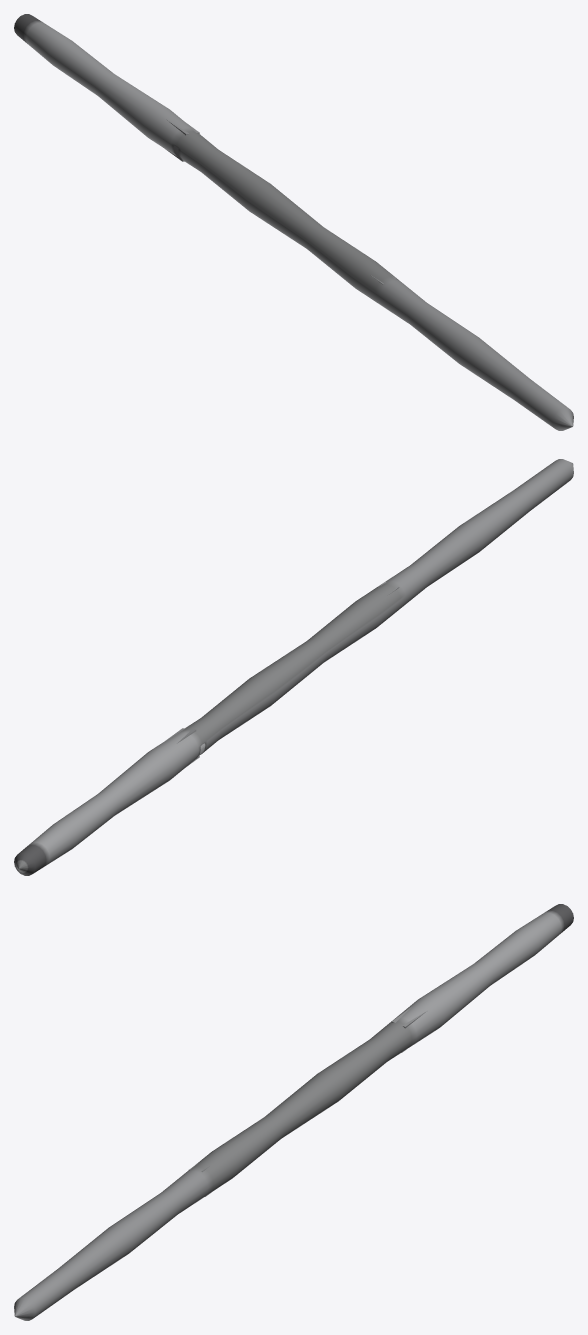
3 renders of one model, top to bottom at view 1: azimuth 30°, elevation 25°; view 2: azimuth 150°, elevation 25°; view 3: azimuth 330°, elevation 25°, orthographic.
Bounding box in the file's own units: 0.078 × 0.078 × 2.41.
